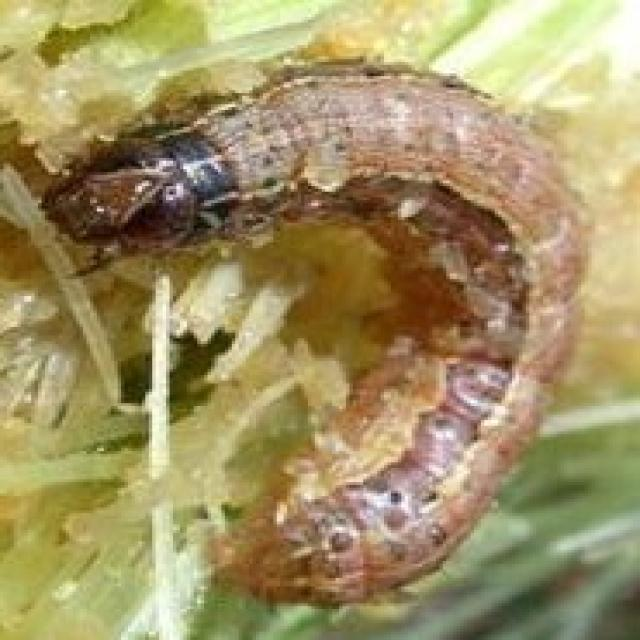army worm: (48, 62, 598, 617)
